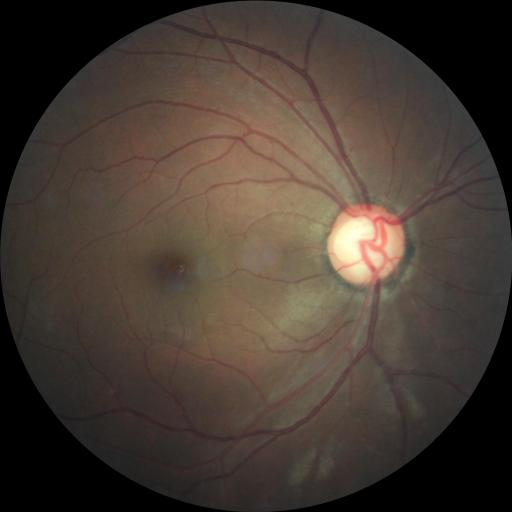Optic Cup: (332, 218, 388, 270)
Optic Disc: (325, 202, 405, 286)
